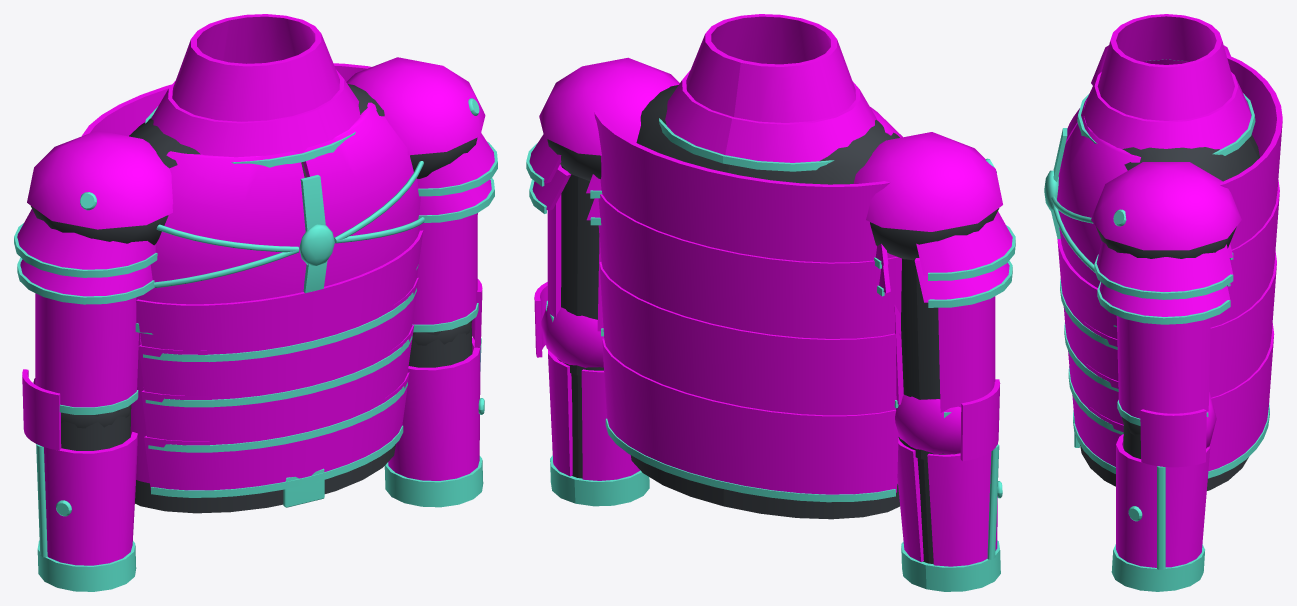
Rendered from porte_armure5_plastron.glb.
3 renders of one model, left to right at view 1: azimuth 30°, elevation 25°; view 2: azimuth 150°, elevation 25°; view 3: azimuth 270°, elevation 25°, orthographic. The views are drawn at different scales.
Visible parts, largest first — view 1: poitrine__plastron_teinte.010, ventre__plastron_teinte.010, avantbras_d__plastron_teinte.010, poitrine__plastron_nano_lueur.002, bras_d__plastron_teinte.010, avantbras_g__plastron_teinte.010, ventre__plastron_nano_lueur.002, bras_g__plastron_teinte.010, poitrine__plastron_teinte_sombre.008, avantbras_d__plastron_nano_lueur.002, ventre__plastron_teinte_sombre.008, avantbras_g__plastron_nano_lueur.002 (+3 smaller); view 2: poitrine__plastron_teinte.010, ventre__plastron_teinte.010, avantbras_d__plastron_teinte.010, avantbras_g__plastron_teinte.010, poitrine__plastron_teinte_sombre.008, bras_d__plastron_teinte.010, bras_g__plastron_teinte_sombre.008, bras_d__plastron_teinte_sombre.008, ventre__plastron_teinte_sombre.008, poitrine__plastron_nano_lueur.002, avantbras_d__plastron_nano_lueur.002, avantbras_g__plastron_nano_lueur.002 (+4 smaller); view 3: poitrine__plastron_teinte.010, ventre__plastron_teinte.010, avantbras_g__plastron_teinte.010, bras_g__plastron_teinte.010, poitrine__plastron_nano_lueur.002, poitrine__plastron_teinte_sombre.008, avantbras_g__plastron_nano_lueur.002, ventre__plastron_nano_lueur.002, ventre__plastron_teinte_sombre.008, avantbras_g__plastron_teinte_sombre.008.
Boxes of the visible parts, <box> form: poitrine__plastron_teinte.010: <box>17,14,494,323</box>; ventre__plastron_teinte.010: <box>130,230,423,490</box>; avantbras_d__plastron_teinte.010: <box>22,369,137,565</box>; poitrine__plastron_nano_lueur.002: <box>14,98,497,334</box>; bras_d__plastron_teinte.010: <box>35,293,138,407</box>; avantbras_g__plastron_teinte.010: <box>388,279,482,480</box>; ventre__plastron_nano_lueur.002: <box>143,288,416,507</box>; bras_g__plastron_teinte.010: <box>412,213,477,324</box>; poitrine__plastron_teinte_sombre.008: <box>31,84,477,245</box>; avantbras_d__plastron_nano_lueur.002: <box>36,444,136,591</box>; ventre__plastron_teinte_sombre.008: <box>135,444,395,513</box>; avantbras_g__plastron_nano_lueur.002: <box>384,338,484,507</box>; poitrine__plastron_teinte.010: <box>529,14,1012,338</box>; ventre__plastron_teinte.010: <box>599,262,901,494</box>; avantbras_d__plastron_teinte.010: <box>895,379,1000,566</box>; avantbras_g__plastron_teinte.010: <box>534,282,640,480</box>; poitrine__plastron_teinte_sombre.008: <box>547,85,999,260</box>; bras_d__plastron_teinte.010: <box>894,296,995,412</box>; bras_g__plastron_teinte_sombre.008: <box>557,164,603,375</box>; bras_d__plastron_teinte_sombre.008: <box>898,258,960,460</box>; ventre__plastron_teinte_sombre.008: <box>630,455,899,519</box>; poitrine__plastron_nano_lueur.002: <box>526,118,1015,307</box>; avantbras_d__plastron_nano_lueur.002: <box>901,444,1002,591</box>; avantbras_g__plastron_nano_lueur.002: <box>550,449,649,506</box>; poitrine__plastron_teinte.010: <box>1057,14,1282,327</box>; ventre__plastron_teinte.010: <box>1057,239,1276,471</box>; avantbras_g__plastron_teinte.010: <box>1116,392,1216,567</box>; bras_g__plastron_teinte.010: <box>1116,316,1210,418</box>; poitrine__plastron_nano_lueur.002: <box>1044,59,1255,327</box>; poitrine__plastron_teinte_sombre.008: <box>1096,134,1259,258</box>; avantbras_g__plastron_nano_lueur.002: <box>1111,466,1204,591</box>; ventre__plastron_nano_lueur.002: <box>1060,279,1269,478</box>; ventre__plastron_teinte_sombre.008: <box>1080,445,1248,490</box>; avantbras_g__plastron_teinte_sombre.008: <box>1122,417,1140,458</box>.
Bounding box in the file's own units: 0.6939 × 0.695 × 0.332.
